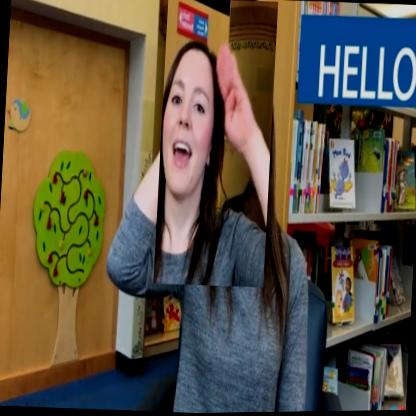Hello: (153, 0, 278, 289)
